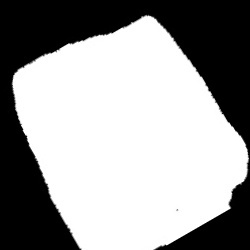spot: (13, 16, 247, 248)
